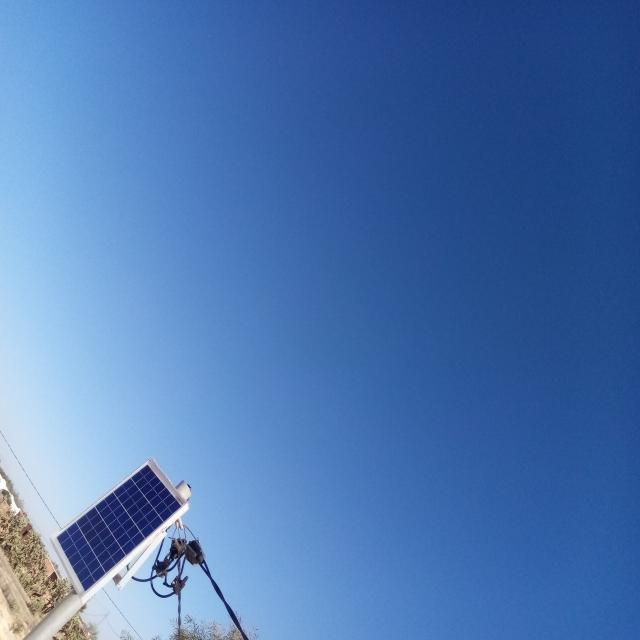Normal Solar Panel: (50, 457, 189, 600)
